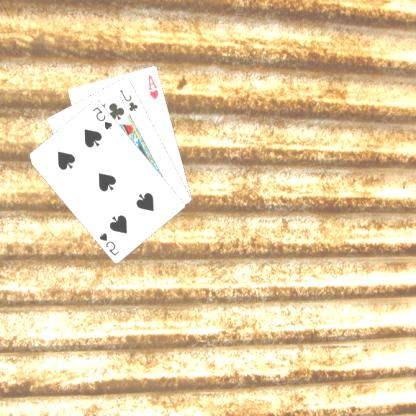5S: (92, 104, 116, 131), (98, 230, 122, 257)
AH: (147, 72, 162, 101)
JC: (118, 86, 142, 112)
